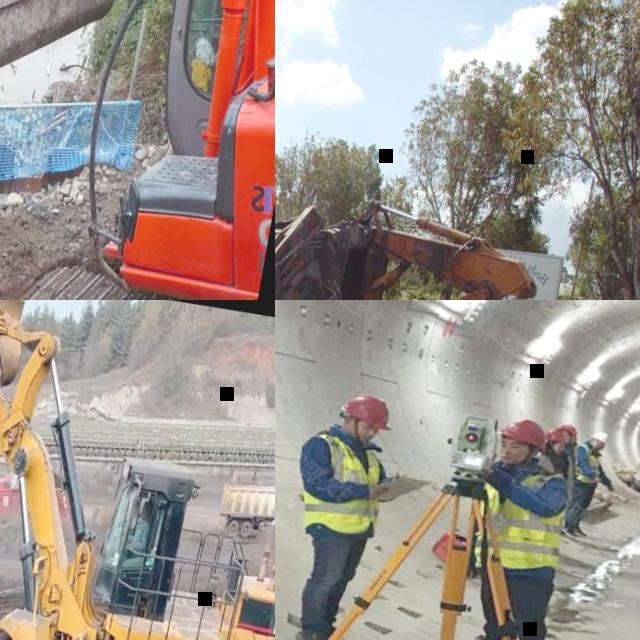Hardhat: (337, 391, 398, 432), (499, 415, 551, 453), (543, 429, 572, 447), (587, 430, 610, 446), (561, 423, 579, 435)
Mask: (593, 444, 604, 453)
NO-Hardhat: (142, 500, 151, 510), (410, 296, 421, 300)
NO-Mask: (349, 428, 375, 445), (498, 450, 522, 467), (552, 447, 561, 456)
NO-Safety Vest: (534, 450, 578, 499), (130, 520, 149, 554), (562, 445, 578, 468)
Person: (436, 411, 596, 640), (275, 384, 402, 640), (559, 426, 624, 544), (537, 422, 587, 539), (538, 430, 577, 482), (125, 498, 153, 555)
Safety Vest: (465, 458, 575, 584), (298, 430, 392, 545), (572, 443, 605, 484)
machinery: (0, 300, 275, 640), (0, 0, 275, 300), (275, 154, 543, 300), (210, 459, 275, 558), (0, 461, 74, 529)
